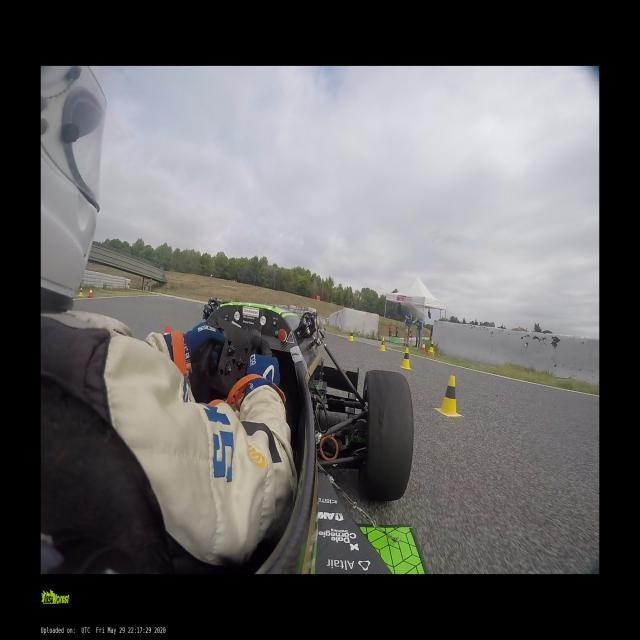orange_cone: (420, 342, 426, 354), (88, 288, 94, 297), (164, 326, 170, 334)
yellow_cone: (435, 376, 462, 417), (398, 348, 411, 372), (379, 337, 386, 351), (348, 329, 354, 342), (428, 340, 434, 353), (78, 287, 83, 297)
